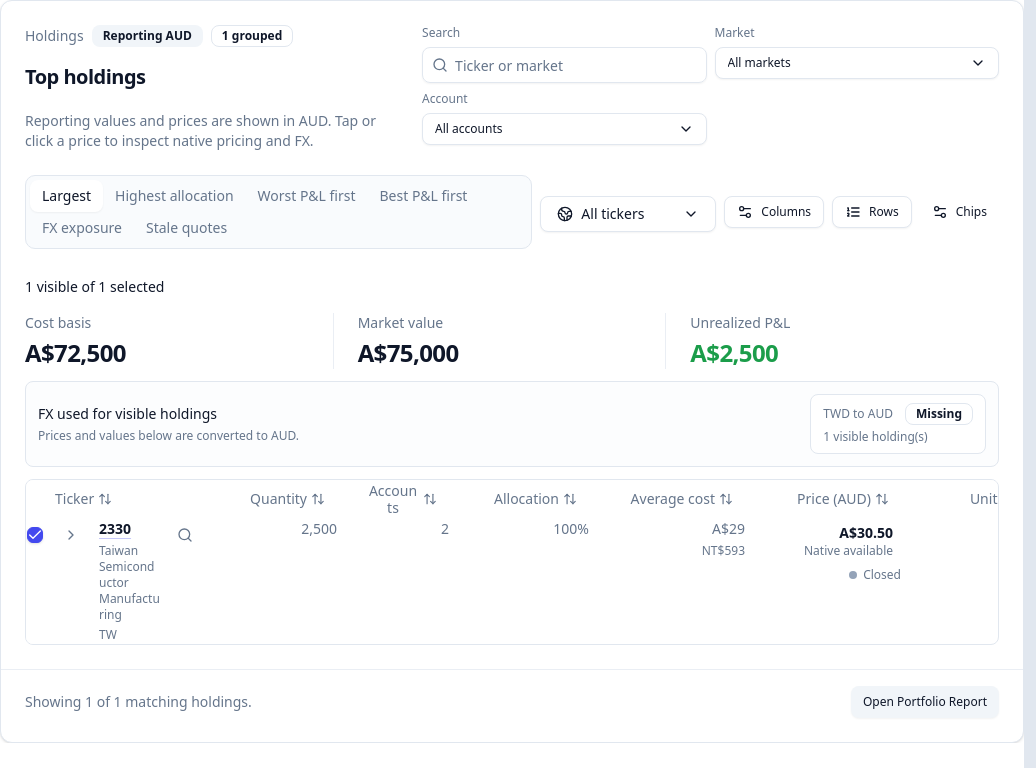
Test: dashboard components › recomputes holding focus group metrics for the selected account filter
Press the mouse on the button with test id "dashboard-holdings-account-filter" at (457,136), box [422, 113, 707, 145]
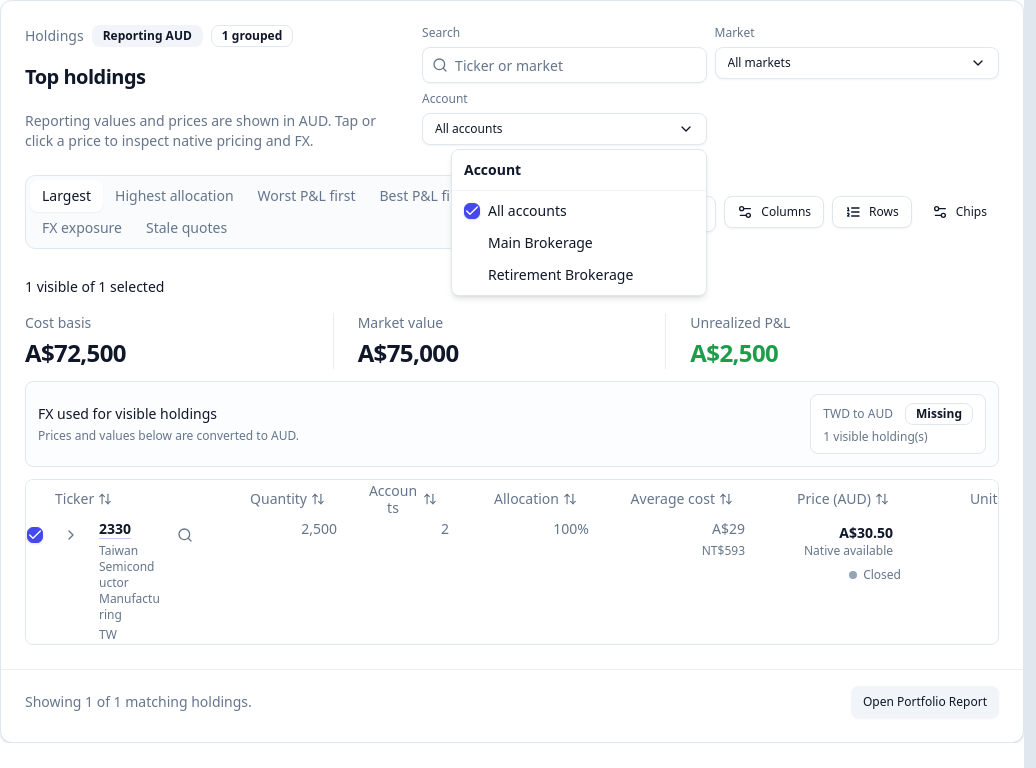
Now the menu item "Retirement Brokerage" is shown
Click the menu item "Retirement Brokerage" at (561,274), box [488, 265, 633, 284]
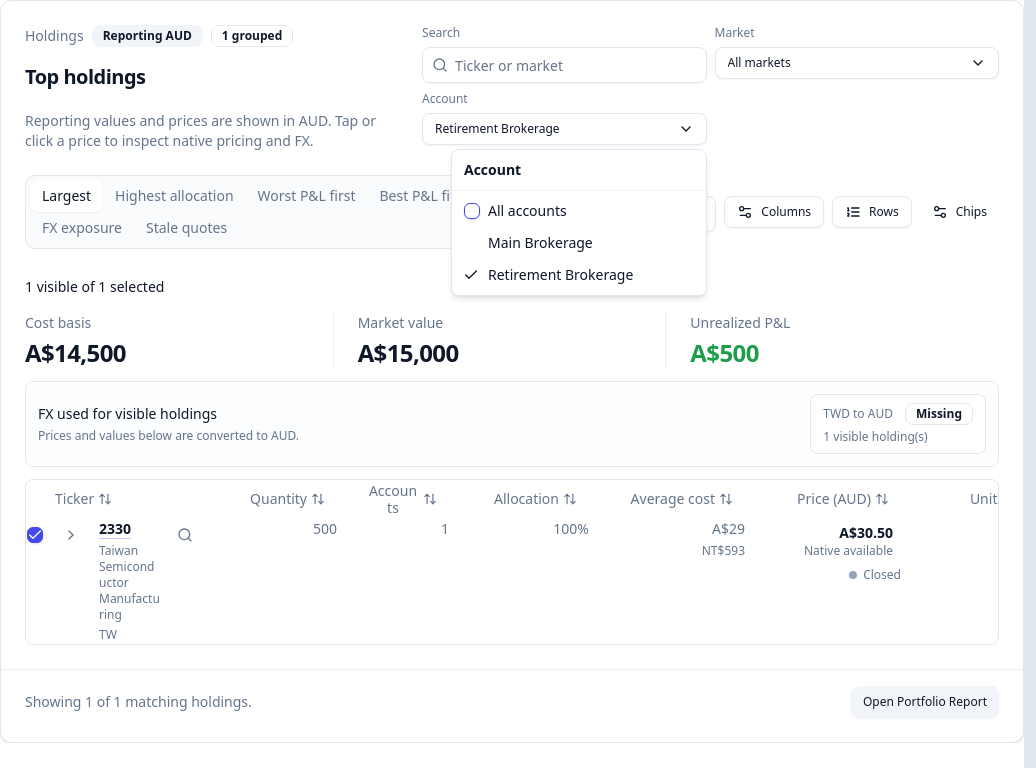
Now the button with test id "dashboard-holdings-account-filter" reads "Retirement Brokerage", box [422, 113, 707, 145]
Now the text "A$15,000" is shown, box [358, 336, 459, 369]
Now the text "A$75,000" is gone
